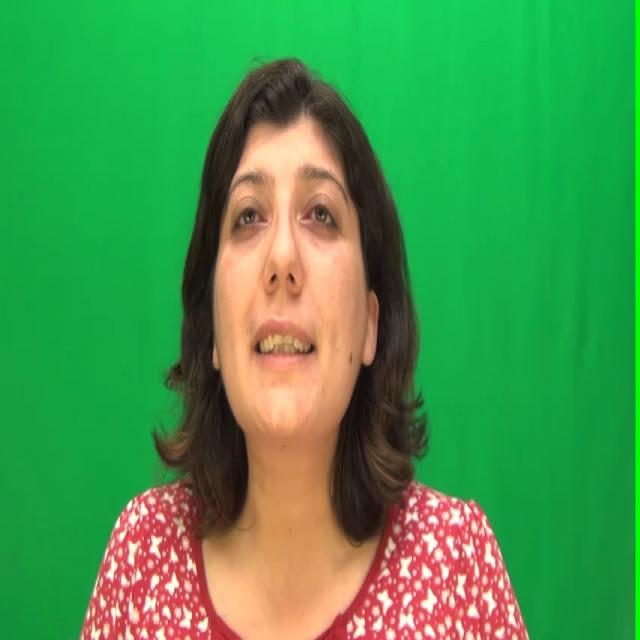Engaged: (213, 107, 360, 444)
